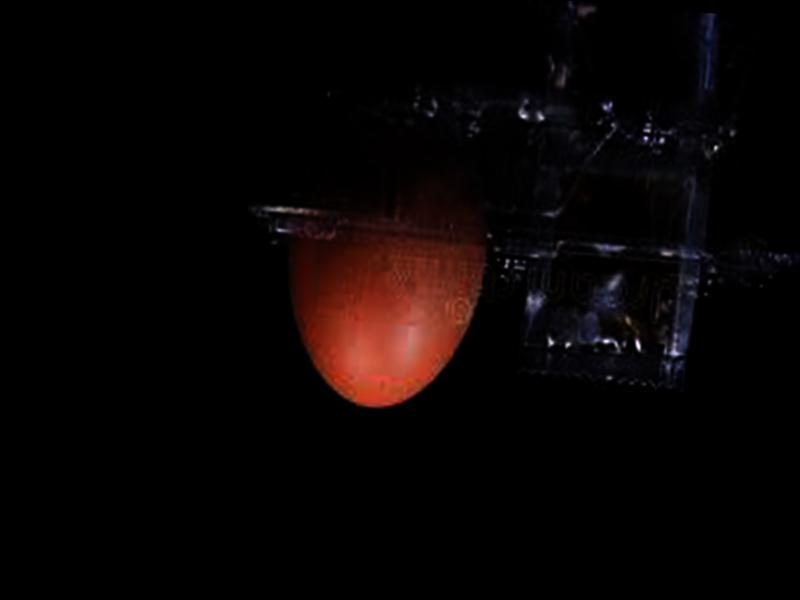Eggs: (270, 104, 496, 416)
